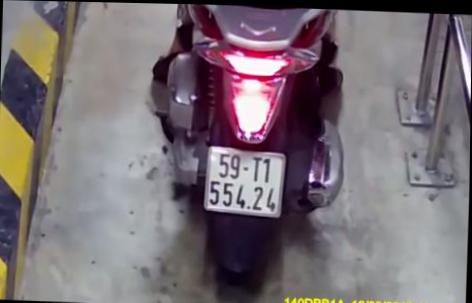LP: (205, 145, 285, 218)
